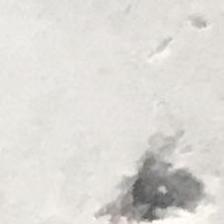Non_Crack: (11, 18, 224, 218)
